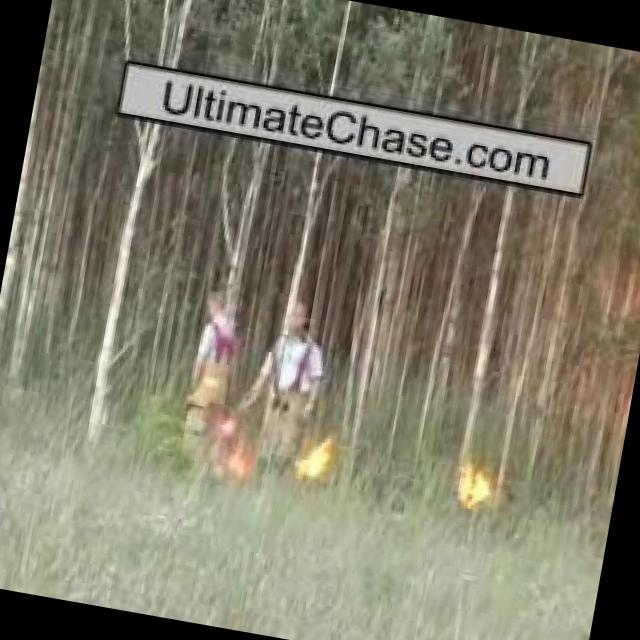Fire: (282, 410, 349, 492), (446, 458, 499, 518)
